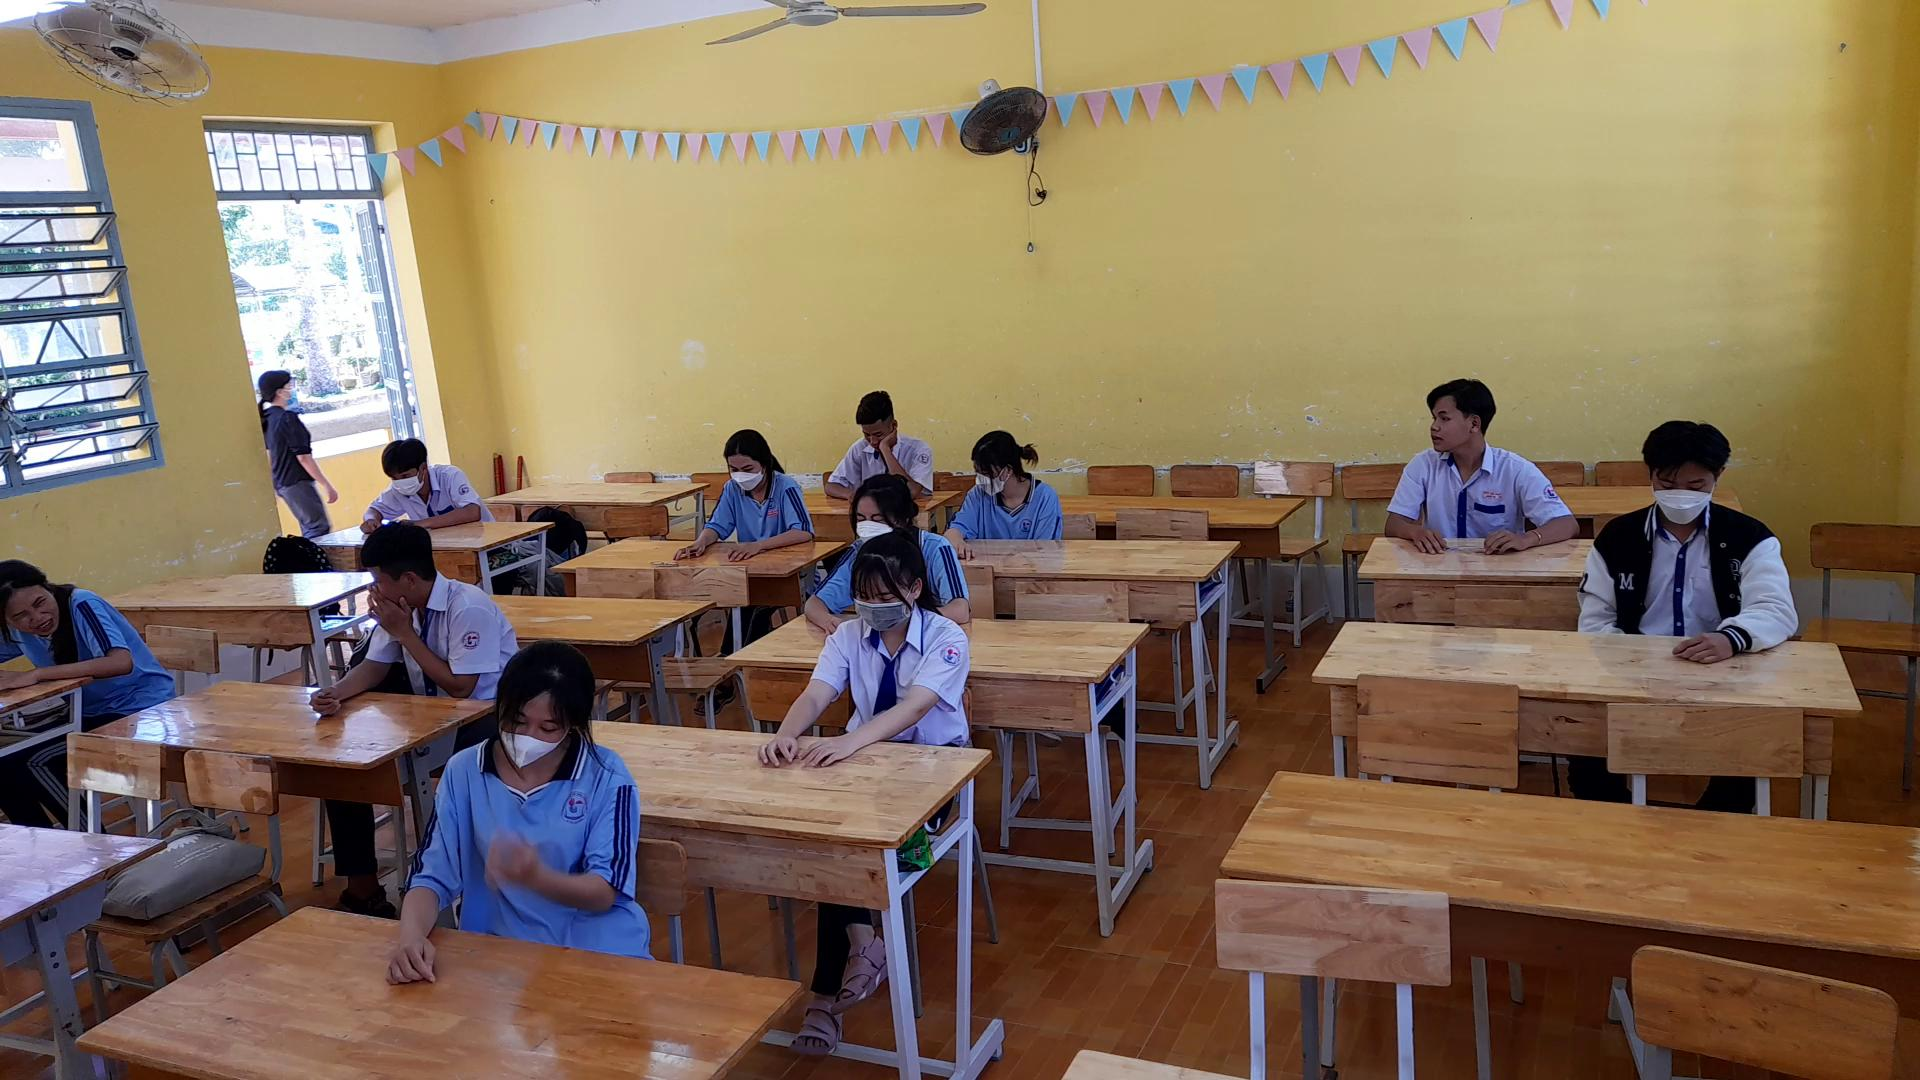Bend Over The Desk: (473, 633, 607, 777), (1629, 406, 1731, 524), (364, 414, 440, 502), (843, 378, 909, 454)
Hand Under Table: (1575, 501, 1633, 645), (1029, 475, 1069, 554)
Look Around: (0, 560, 123, 702), (1412, 369, 1506, 475), (344, 516, 444, 609), (960, 423, 1039, 502)
Normal: (762, 530, 968, 764), (673, 415, 816, 562)
